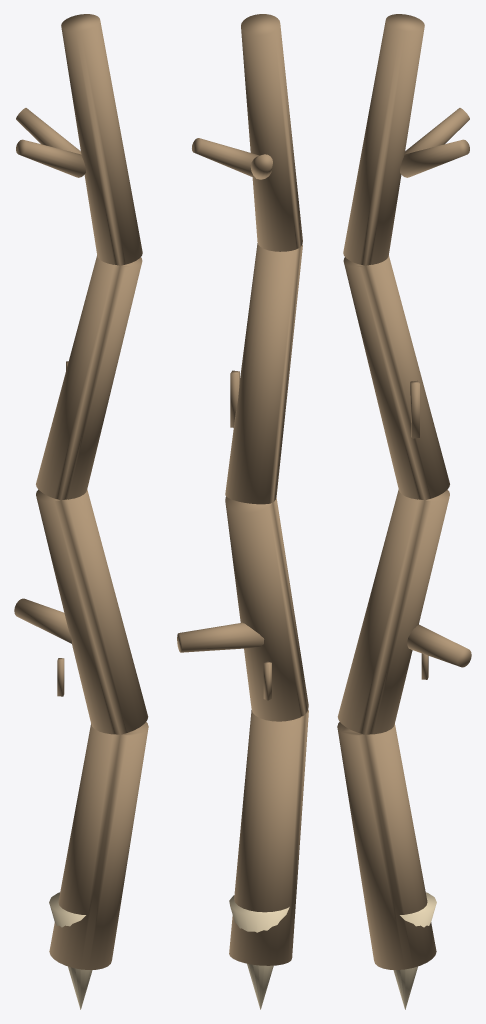
Rendered from stick_2.glb.
3 views of the same model, side by side, from view 1: azimuth 90°, elevation 25°; view 2: azimuth 150°, elevation 25°; view 3: azimuth 270°, elevation 25° (orthographic).
Parts seen in each view (by area): view 1: Main_Shaft, Fork_B, Side_Branch, Frayed_Tip, Fork_A; view 2: Main_Shaft, Side_Branch, Frayed_Tip, Fork_A, Fork_B, Bark_Ridge_1, Bark_Ridge_2; view 3: Main_Shaft, Side_Branch, Fork_A, Frayed_Tip, Fork_B, Bark_Ridge_1.
Boxes of the visible parts, left/top/right/bottom form: Main_Shaft: left=36, top=14, right=148, bottom=969; Fork_B: left=16, top=139, right=85, bottom=177; Side_Branch: left=14, top=598, right=71, bottom=643; Frayed_Tip: left=49, top=892, right=92, bottom=1009; Fork_A: left=16, top=108, right=81, bottom=154; Main_Shaft: left=225, top=14, right=308, bottom=965; Side_Branch: left=177, top=622, right=264, bottom=652; Frayed_Tip: left=229, top=895, right=289, bottom=1009; Fork_A: left=192, top=138, right=259, bottom=179; Fork_B: left=250, top=154, right=272, bottom=179; Bark_Ridge_1: left=230, top=370, right=239, bottom=427; Bark_Ridge_2: left=263, top=661, right=271, bottom=700; Main_Shaft: left=337, top=14, right=449, bottom=969; Side_Branch: left=407, top=624, right=471, bottom=667; Fork_A: left=400, top=139, right=469, bottom=177; Frayed_Tip: left=393, top=892, right=436, bottom=1009; Fork_B: left=404, top=108, right=469, bottom=154; Bark_Ridge_1: left=410, top=380, right=419, bottom=438.
Bounding box in the file's own units: 0.057 × 0.5515 × 0.0679.
